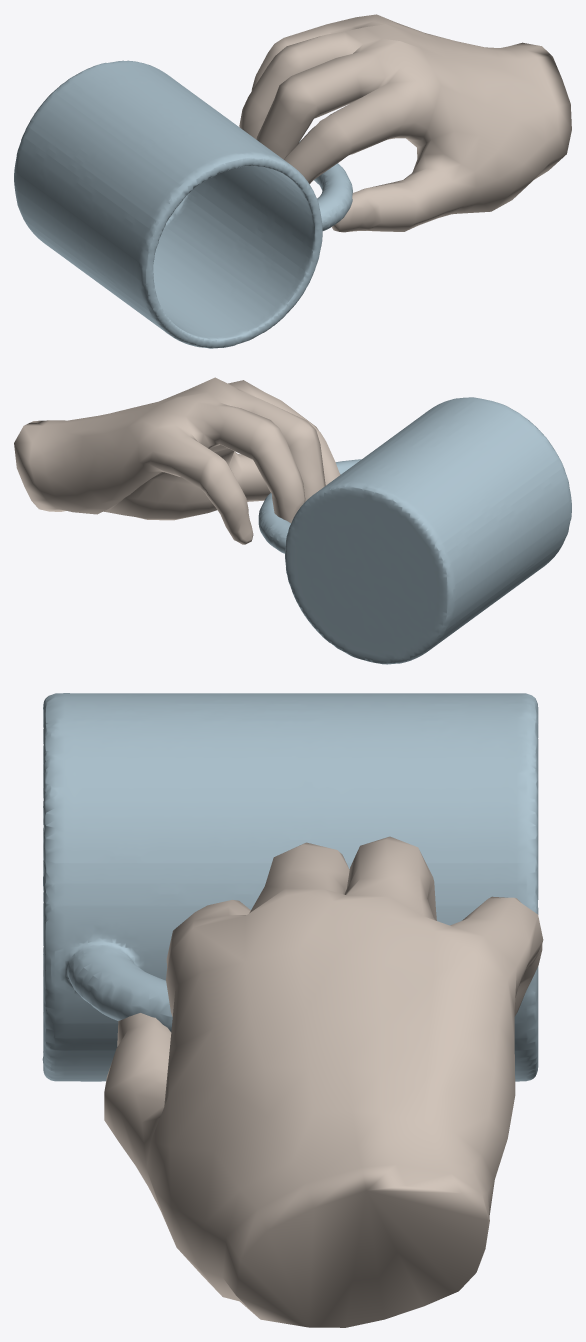
File: pred_33.glb
3 renders of one model, top to bottom at view 1: azimuth 30°, elevation 25°; view 2: azimuth 150°, elevation 25°; view 3: azimuth 270°, elevation 25°, orthographic. The views are drawn at different scales.
Size of the model in its own units: 0.2251 by 0.088 by 0.106.
